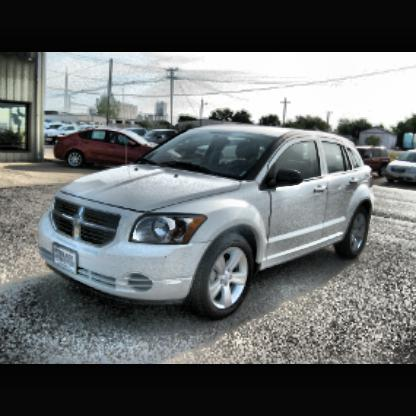Dodge Caliber Wagon 2012: (36, 117, 380, 327)
